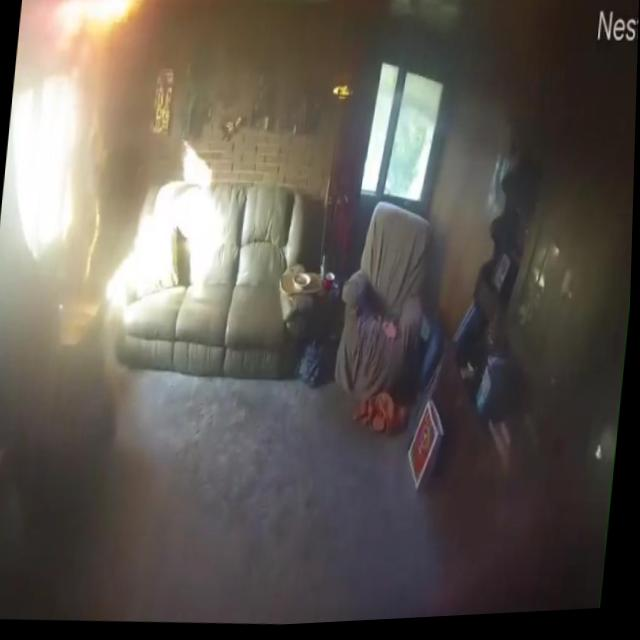fire: (38, 0, 157, 62), (75, 122, 113, 288)
